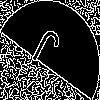J: (25, 25, 63, 79)
